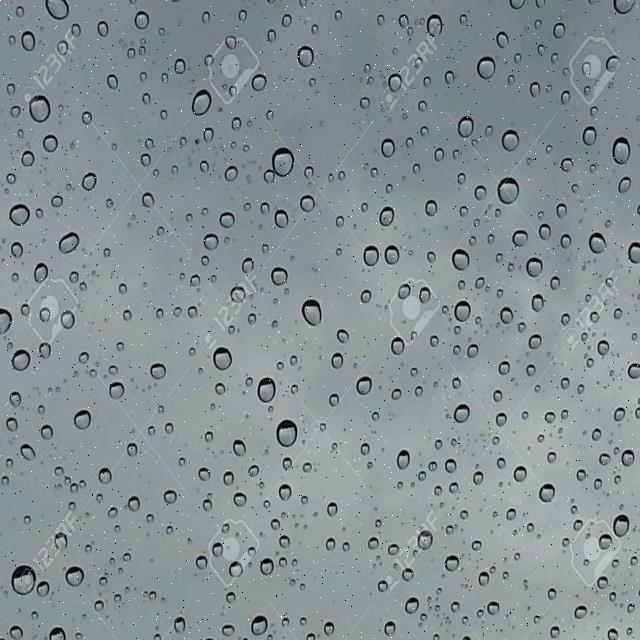raindrop: (298, 290, 330, 336), (271, 418, 306, 456), (183, 84, 216, 123), (293, 34, 322, 76), (8, 561, 38, 601), (66, 404, 96, 444), (269, 144, 299, 180), (6, 196, 34, 234), (61, 558, 92, 592), (8, 345, 34, 385), (497, 174, 522, 212), (212, 340, 237, 376), (410, 526, 440, 556), (256, 372, 281, 407), (27, 90, 52, 125), (146, 356, 171, 390), (54, 228, 84, 256), (586, 227, 612, 258), (610, 132, 633, 166), (225, 487, 249, 518), (40, 0, 72, 23), (40, 124, 59, 162), (106, 378, 130, 408), (455, 114, 480, 142), (423, 12, 448, 40), (130, 189, 158, 214), (438, 550, 464, 576), (41, 190, 67, 216), (360, 240, 381, 272), (354, 372, 376, 402), (102, 70, 124, 100), (234, 432, 253, 466), (475, 54, 498, 82), (128, 10, 156, 33), (472, 174, 492, 206), (500, 128, 523, 155), (494, 26, 516, 54), (618, 446, 639, 475), (497, 300, 517, 330), (18, 30, 41, 56), (379, 136, 402, 162), (452, 247, 474, 274), (609, 400, 630, 428), (95, 462, 115, 491), (270, 262, 292, 288), (452, 402, 474, 428), (78, 172, 100, 198), (453, 296, 472, 326), (581, 119, 600, 149), (612, 510, 631, 540), (610, 0, 640, 19), (384, 240, 404, 268), (538, 479, 558, 507), (124, 437, 140, 472), (627, 234, 640, 277), (605, 49, 624, 78), (596, 526, 614, 556), (558, 150, 576, 180), (423, 192, 441, 222), (274, 482, 296, 506), (221, 162, 243, 186), (395, 446, 413, 475), (192, 548, 210, 577), (303, 158, 321, 187), (377, 204, 397, 230), (239, 462, 265, 482), (299, 190, 318, 217), (222, 464, 241, 491), (227, 556, 246, 583), (417, 280, 434, 310), (58, 305, 76, 333), (20, 436, 38, 464), (218, 206, 238, 231), (161, 486, 180, 512), (32, 258, 51, 284), (615, 173, 633, 200), (37, 337, 55, 364), (528, 75, 546, 102), (228, 280, 248, 304), (402, 592, 422, 616), (125, 490, 145, 514), (172, 54, 192, 78), (274, 532, 294, 556), (463, 338, 483, 362), (524, 254, 544, 278), (538, 216, 554, 246), (251, 612, 268, 640), (0, 303, 14, 337), (512, 227, 531, 252), (198, 122, 216, 148), (540, 406, 558, 432), (567, 515, 588, 537), (202, 230, 222, 253), (54, 528, 74, 551), (250, 71, 270, 94), (550, 21, 570, 44), (238, 252, 257, 276), (529, 292, 548, 316), (444, 65, 463, 89), (322, 615, 340, 640), (274, 206, 291, 232), (387, 69, 404, 95), (34, 578, 54, 600), (260, 554, 276, 581), (20, 146, 38, 170), (94, 18, 112, 42), (197, 156, 214, 181), (571, 601, 591, 622), (190, 270, 206, 296), (336, 322, 352, 348), (173, 612, 189, 638), (198, 6, 214, 32), (475, 568, 491, 594), (8, 238, 26, 261), (47, 622, 70, 640), (415, 95, 433, 118), (210, 536, 227, 560), (595, 334, 612, 358), (528, 331, 544, 356), (333, 209, 351, 231), (388, 334, 406, 356), (494, 355, 512, 377), (196, 460, 210, 488), (56, 38, 72, 62), (236, 2, 252, 26), (328, 351, 346, 372), (184, 300, 199, 325), (68, 19, 85, 41), (164, 420, 181, 442), (374, 576, 391, 598), (555, 200, 571, 223), (359, 92, 378, 111), (76, 347, 94, 367), (222, 32, 240, 52), (223, 588, 240, 609), (514, 464, 530, 486), (38, 303, 54, 325), (8, 386, 24, 408), (484, 596, 500, 618), (422, 71, 438, 93), (432, 144, 447, 167), (7, 621, 25, 640), (381, 618, 398, 638), (278, 12, 295, 32), (626, 359, 640, 383), (66, 266, 82, 287), (596, 571, 610, 595), (559, 231, 575, 252), (359, 286, 374, 308), (469, 534, 484, 556), (488, 386, 506, 404), (325, 500, 342, 519), (39, 422, 56, 441), (428, 329, 442, 352), (106, 500, 122, 520), (92, 598, 108, 618), (264, 26, 280, 46), (270, 514, 286, 534), (597, 453, 617, 469), (120, 304, 134, 326), (140, 150, 154, 172), (324, 532, 338, 554), (401, 563, 415, 585), (574, 464, 588, 486), (545, 446, 559, 468), (560, 86, 574, 108), (442, 457, 459, 475), (549, 621, 565, 640), (396, 280, 411, 300), (4, 170, 19, 190), (328, 390, 343, 410), (448, 597, 460, 622), (80, 107, 94, 128), (301, 457, 315, 478), (472, 468, 486, 489), (398, 8, 412, 29), (388, 386, 405, 403), (496, 408, 508, 432), (603, 621, 618, 640), (122, 548, 136, 568), (229, 114, 243, 134), (558, 404, 572, 424), (560, 309, 574, 329), (496, 453, 508, 476), (144, 134, 159, 152), (258, 199, 272, 218), (6, 414, 20, 433), (203, 51, 217, 70), (6, 78, 18, 100), (115, 339, 128, 359), (201, 494, 214, 514), (95, 574, 111, 590), (218, 622, 234, 638), (198, 251, 212, 269), (360, 440, 374, 458), (448, 480, 462, 498), (449, 374, 463, 392), (10, 102, 23, 121), (366, 533, 379, 552), (386, 540, 399, 559), (505, 503, 515, 527), (126, 42, 138, 62), (204, 426, 216, 446), (526, 360, 538, 380), (106, 361, 120, 378), (592, 476, 606, 493), (19, 300, 32, 318), (141, 90, 154, 108), (215, 379, 228, 397), (418, 122, 431, 140), (137, 41, 149, 60), (68, 480, 82, 496), (280, 454, 294, 470), (414, 384, 427, 401), (590, 425, 602, 443), (340, 538, 352, 556), (409, 364, 421, 382), (561, 376, 573, 394), (139, 68, 150, 86), (118, 282, 131, 297), (608, 558, 620, 574), (432, 482, 443, 499), (14, 4, 27, 18), (458, 508, 471, 522), (429, 459, 441, 474), (4, 456, 16, 470), (453, 342, 463, 358), (54, 463, 64, 478), (7, 32, 16, 48), (304, 628, 316, 640), (476, 608, 486, 622), (418, 470, 428, 484), (610, 590, 618, 606)
